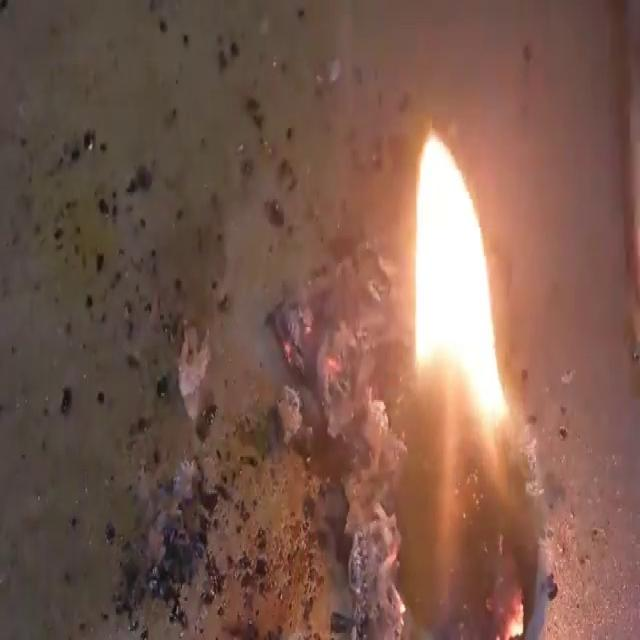Fire: (4, 4, 636, 636), (409, 126, 512, 439)
